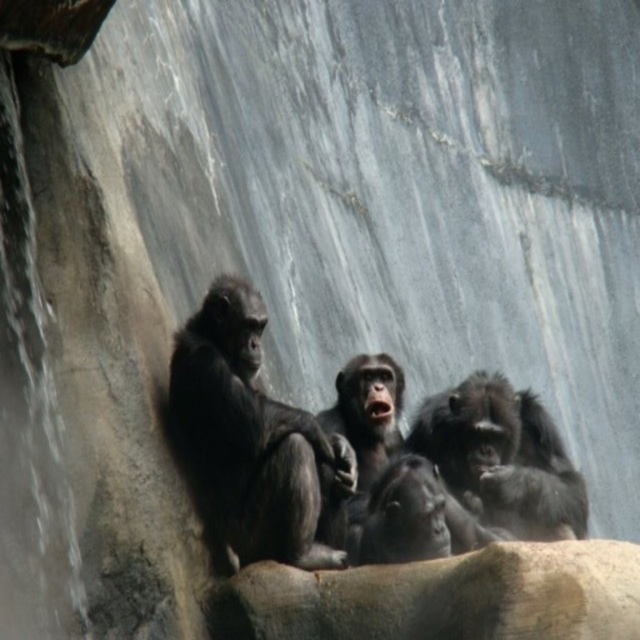Monkey: (155, 271, 366, 583)
